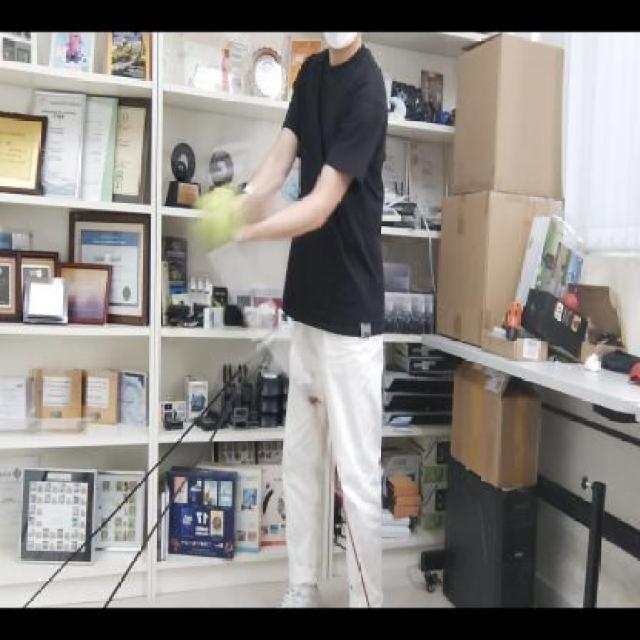baseball: (189, 187, 240, 256)
